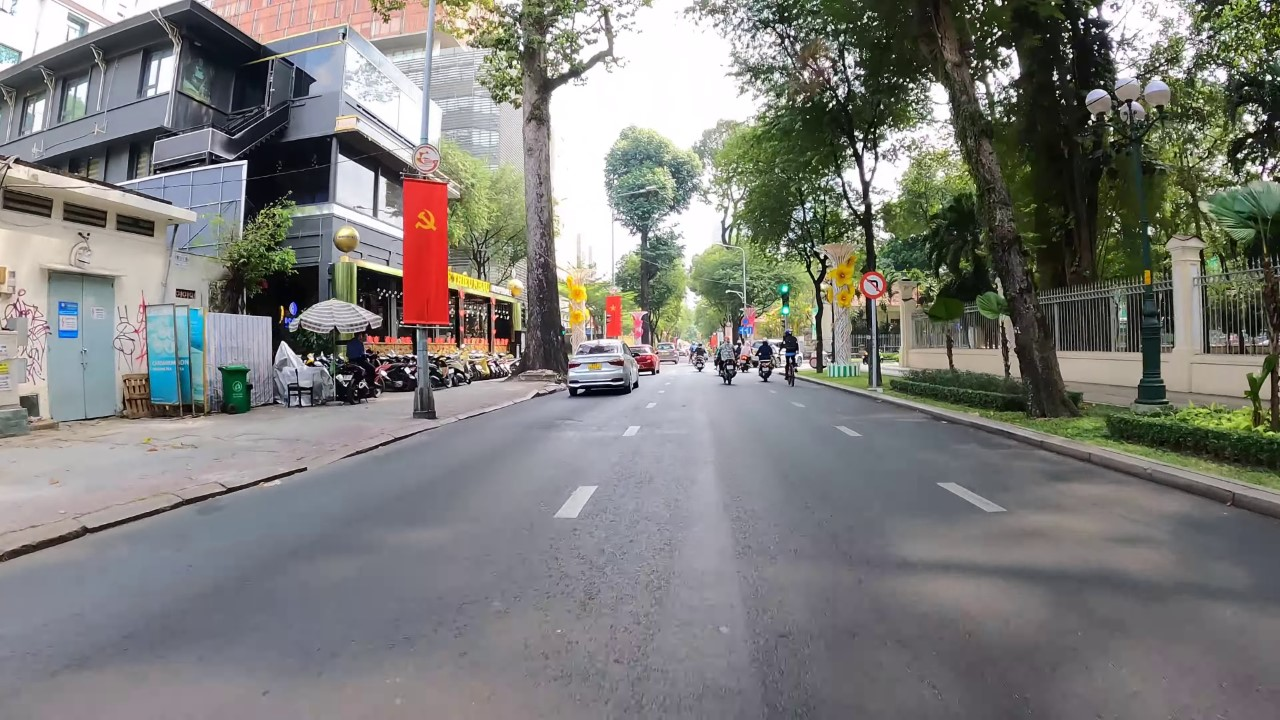cam_re_trai: (858, 269, 889, 300)
